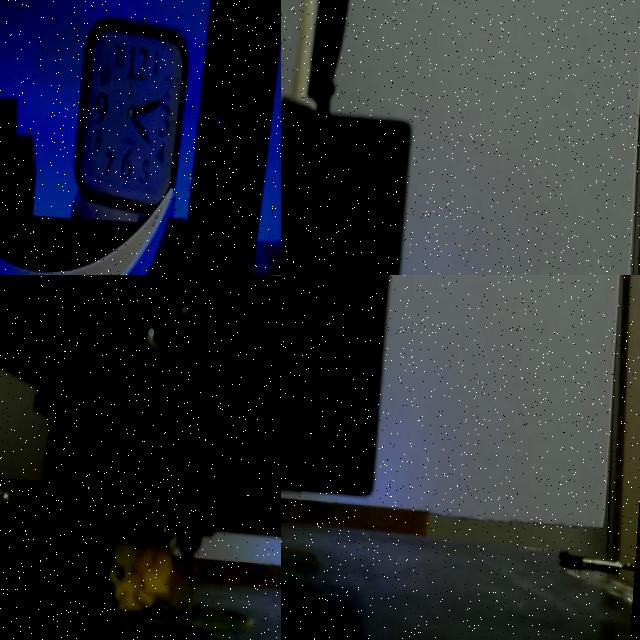spaghetti: (108, 522, 184, 613)
